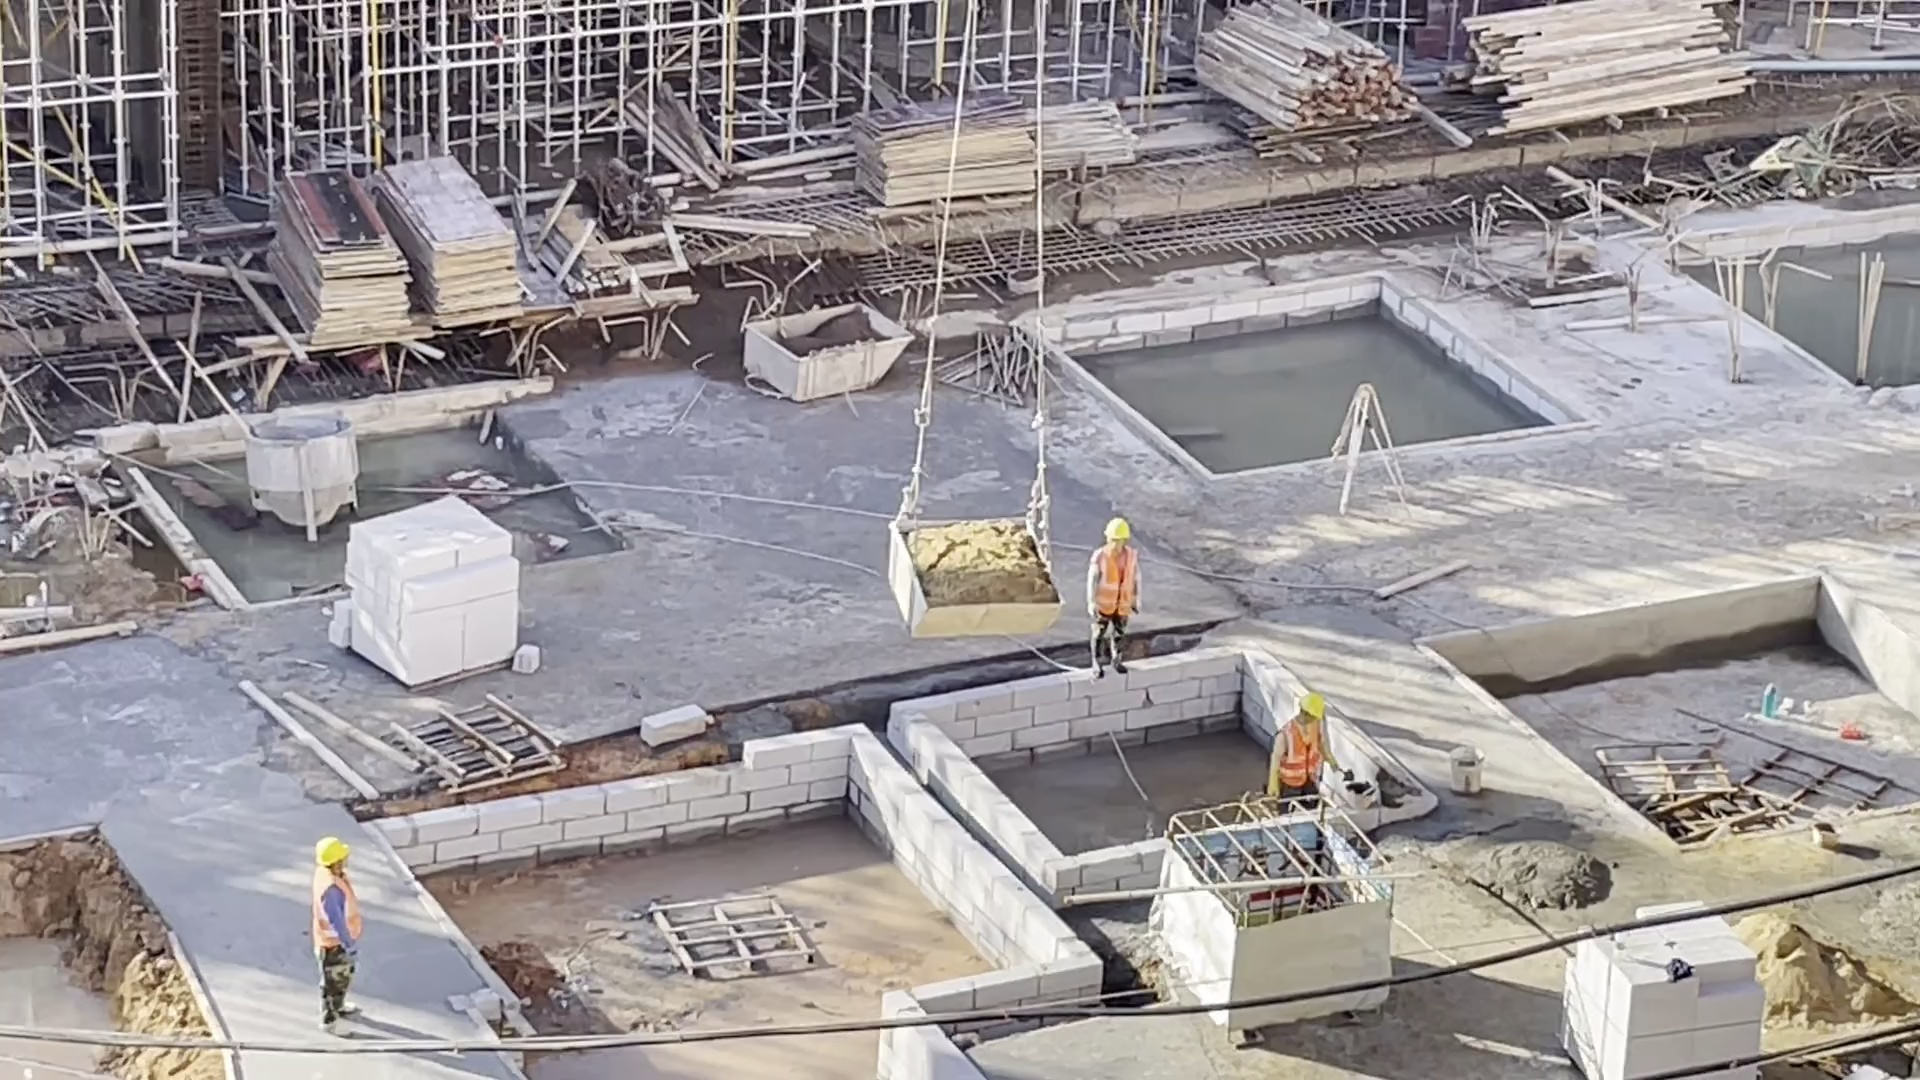board: (264, 163, 418, 353), (378, 150, 528, 335), (848, 87, 1037, 216)
brick: (328, 500, 542, 685), (1553, 948, 1768, 1064)
helmet: (314, 834, 351, 867), (1295, 690, 1330, 723), (1098, 517, 1132, 539)
hopper: (874, 513, 1063, 642), (733, 302, 921, 402), (244, 411, 359, 541)
person: (304, 832, 373, 1043), (1261, 691, 1358, 811), (1083, 517, 1140, 679)
vest: (312, 872, 361, 945), (1092, 545, 1139, 620), (1276, 716, 1327, 785)
wood: (1454, 2, 1766, 141), (1188, 6, 1422, 149)
